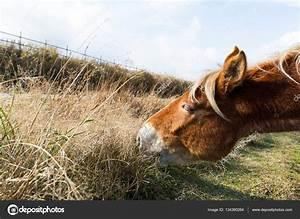horse: (135, 41, 299, 170)
